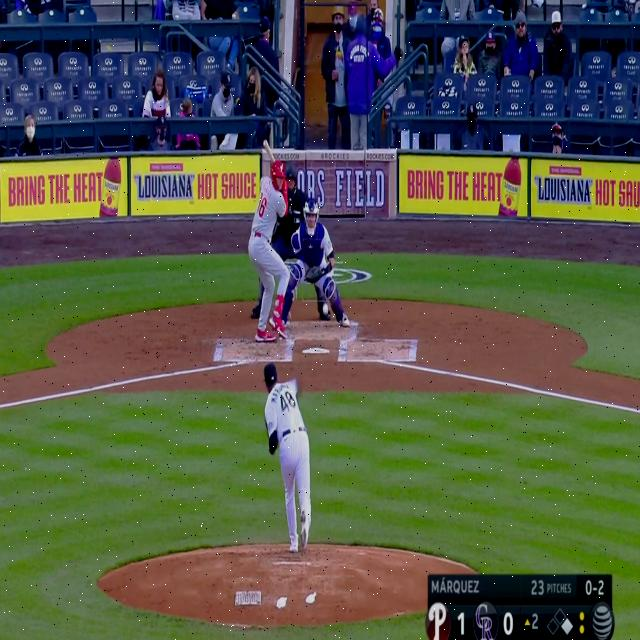baseball: (322, 302, 329, 316)
